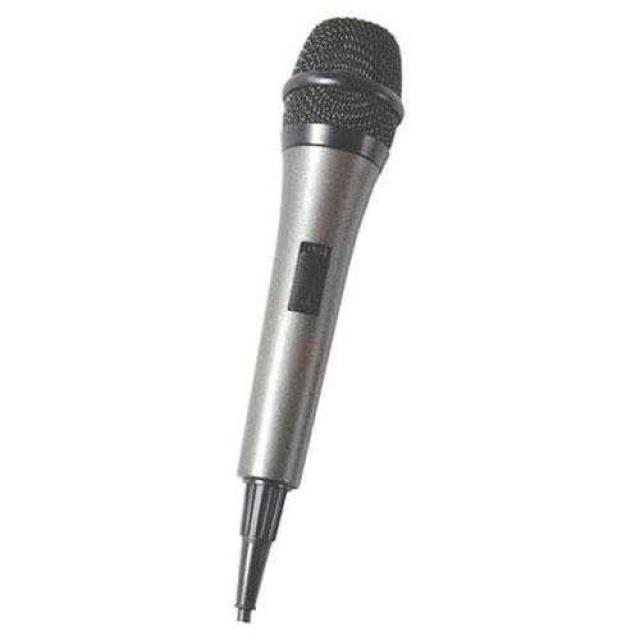microphone: (226, 17, 405, 620)
